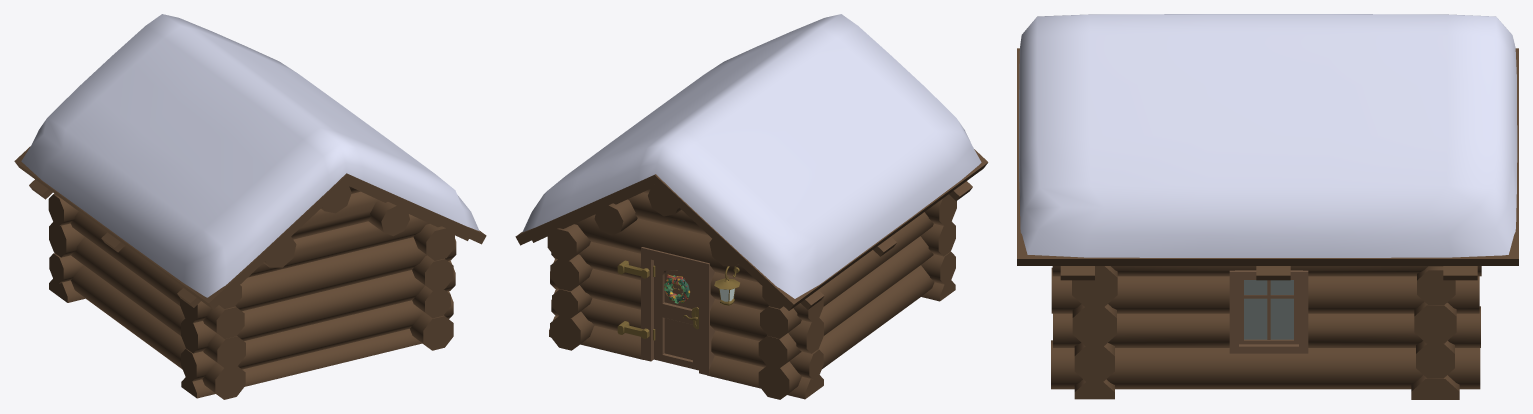
The model's file is winter_house.fbx.
3 views of the same model, side by side, from view 1: azimuth 30°, elevation 25°; view 2: azimuth 150°, elevation 25°; view 3: azimuth 270°, elevation 25° (orthographic). The views are drawn at different scales.
Visible parts, largest first — view 1: House.001; view 2: House.001; view 3: House.001.
Boxes of the visible parts, x1,y1,x2,y2 form: House.001: (14,14,486,399); House.001: (515,14,988,399); House.001: (1017,14,1518,399).
Size of the model in its own units: 602 by 484 by 721.
